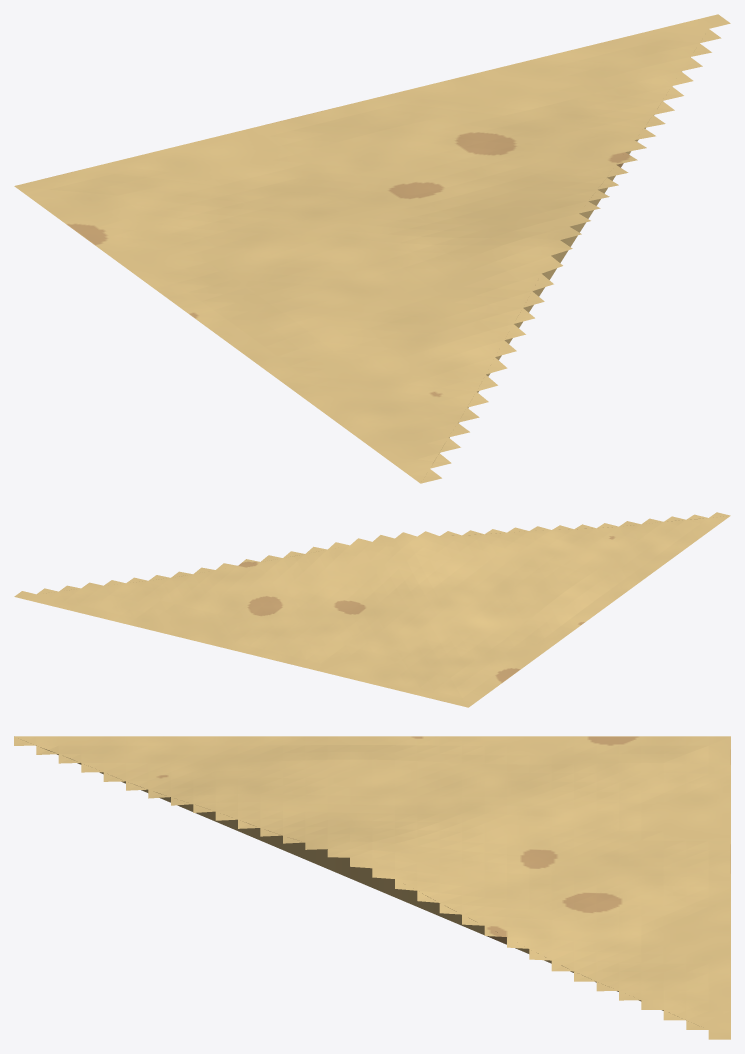
File: Desert_Flat_10_SW.obj
3 views of the same model, one above another, from view 1: azimuth 30°, elevation 25°; view 2: azimuth 150°, elevation 25°; view 3: azimuth 270°, elevation 25° (orthographic). The views are drawn at different scales.
Bounding box in the file's own units: 10 × 0.3276 × 10.
Materials: 1 (1 with a texture image).
